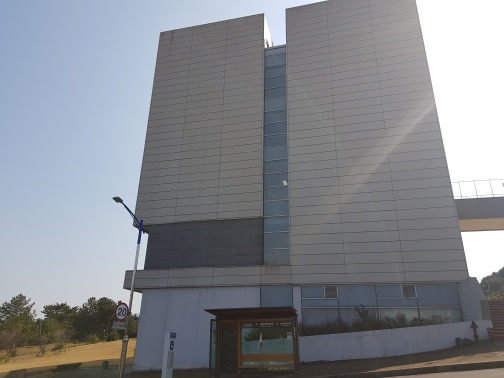Engineering College Building 4: (156, 20, 453, 355), (280, 2, 450, 351), (126, 14, 268, 362)
